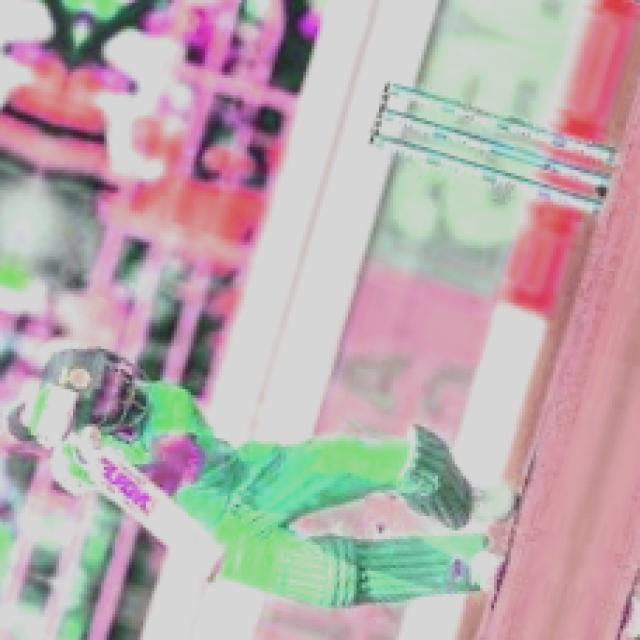bat: (81, 446, 235, 585)
toe: (201, 550, 225, 582)
